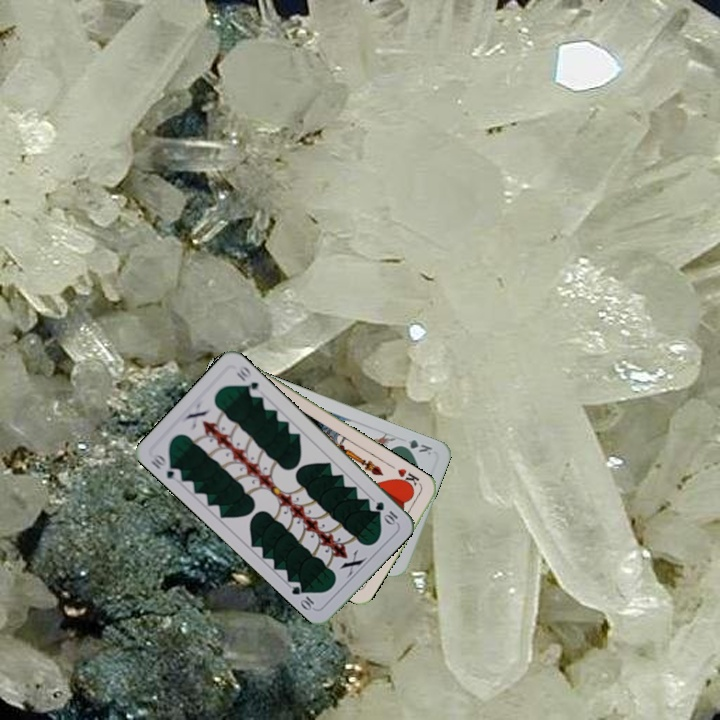G10: (146, 449, 184, 482), (371, 497, 400, 527)
GK: (395, 435, 435, 458)
HK: (391, 464, 424, 492)
